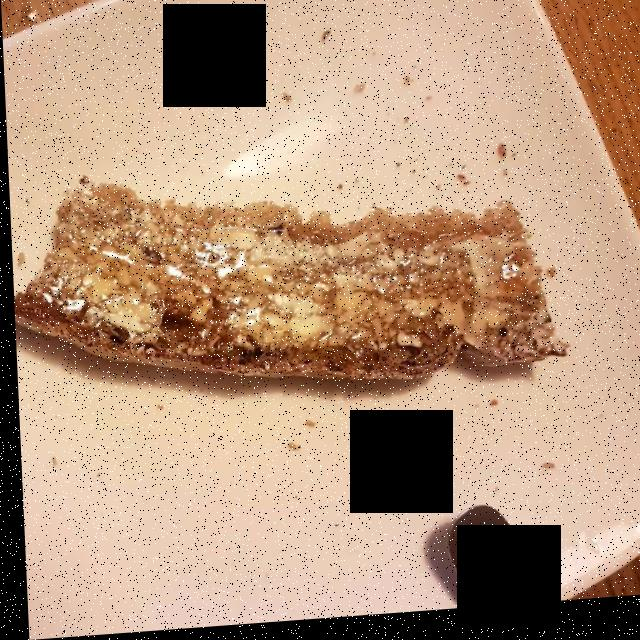bread-wholemeal: (19, 184, 542, 382)
honey: (64, 213, 510, 358)
